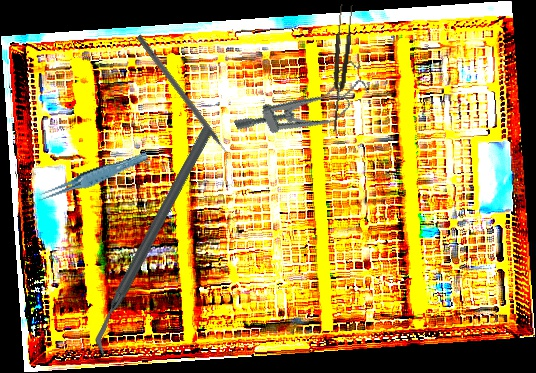Chopper: (27, 123, 280, 360), (129, 34, 236, 168)
Speculum: (229, 57, 377, 158)
Tissue Forceps: (33, 151, 152, 203), (326, 3, 355, 133)
